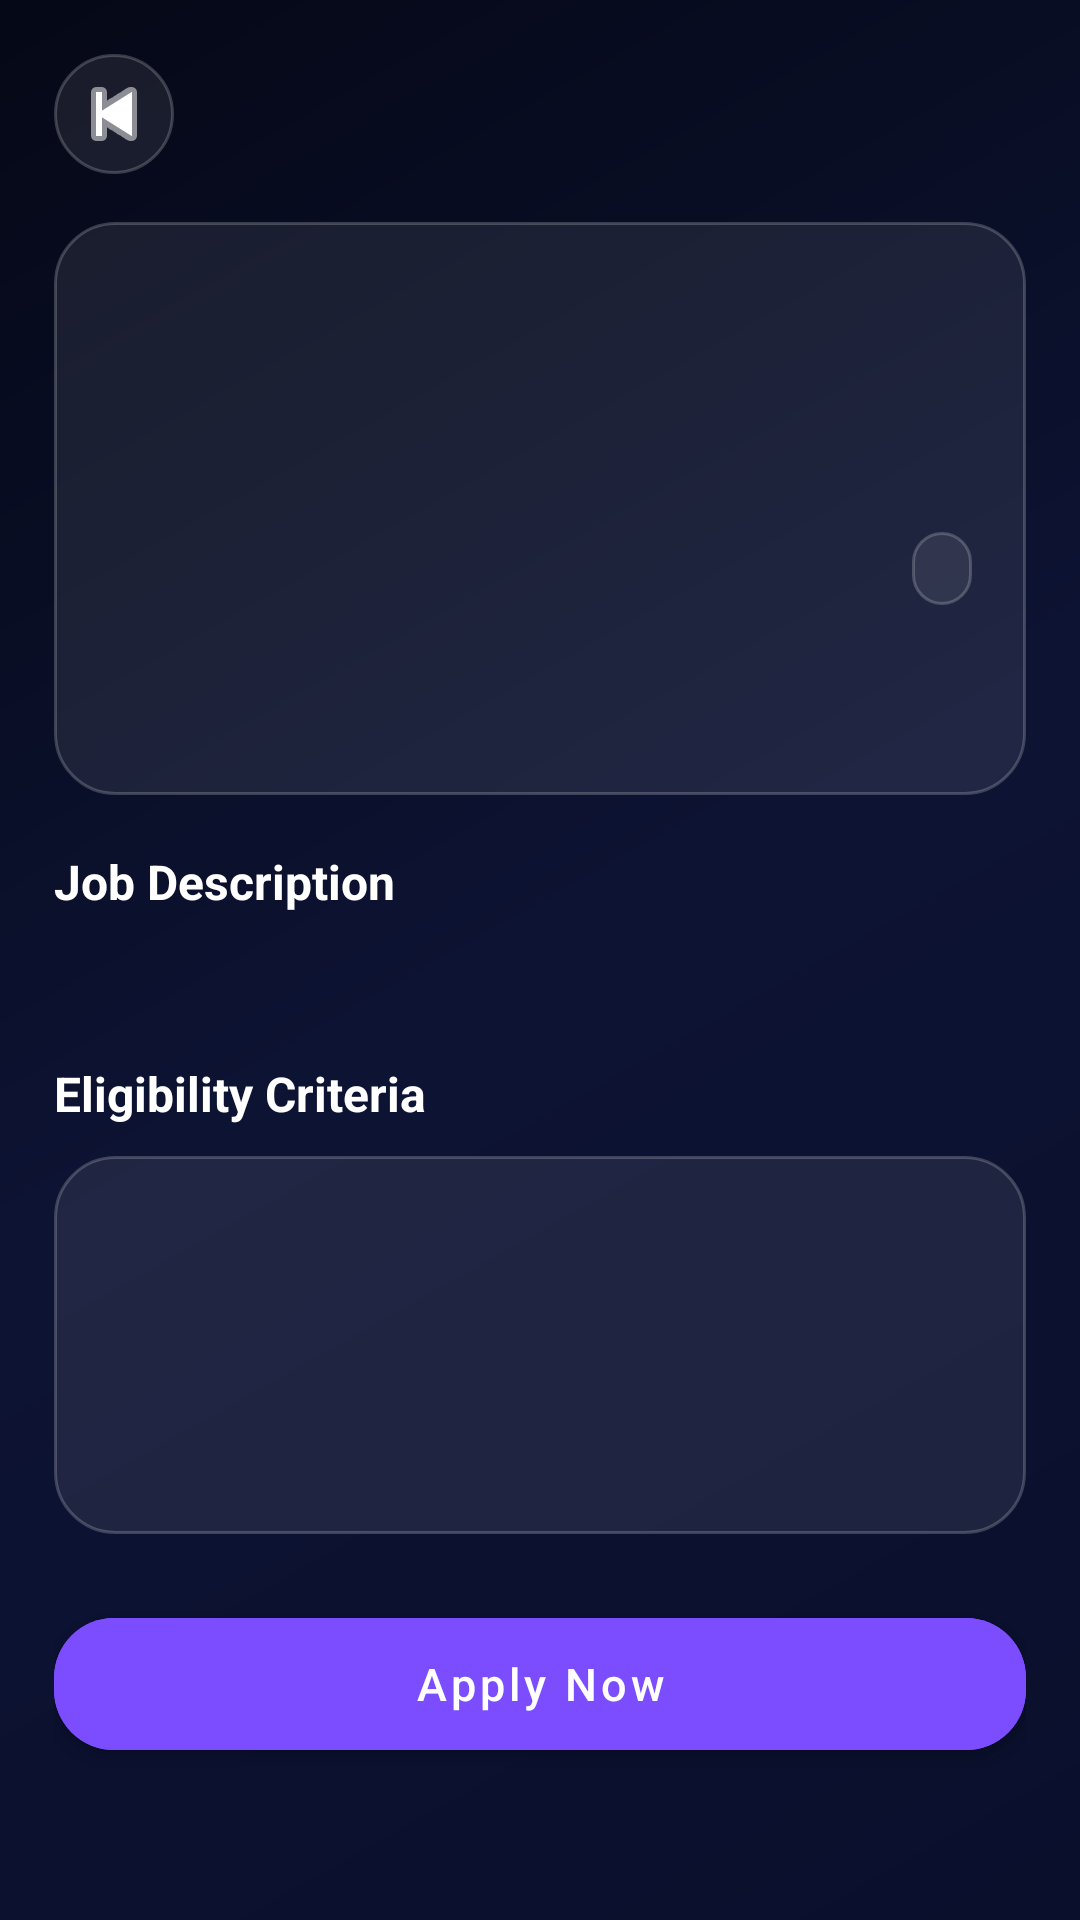

Named icons in this screenshot (1080px x 1920px) and their centers, [x,y]:
Back: [114,114]
